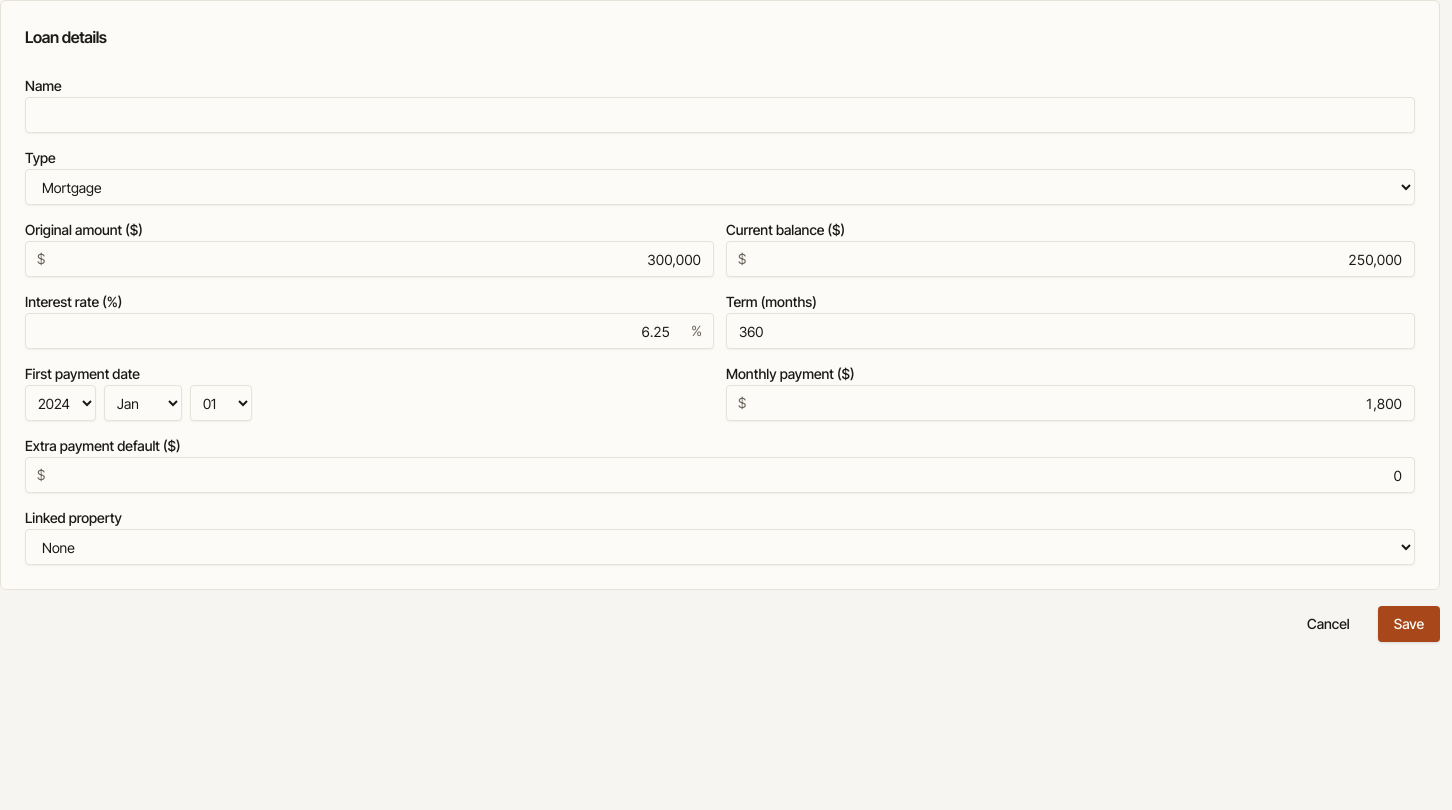
LoanForm — inline per-field errors (round-3 S6) › the error summary names the rate/term fields by their visible labels
Replace the text in the number field labelled "Interest rate (%)" with "150" at (370, 331), box [25,313,714,349]
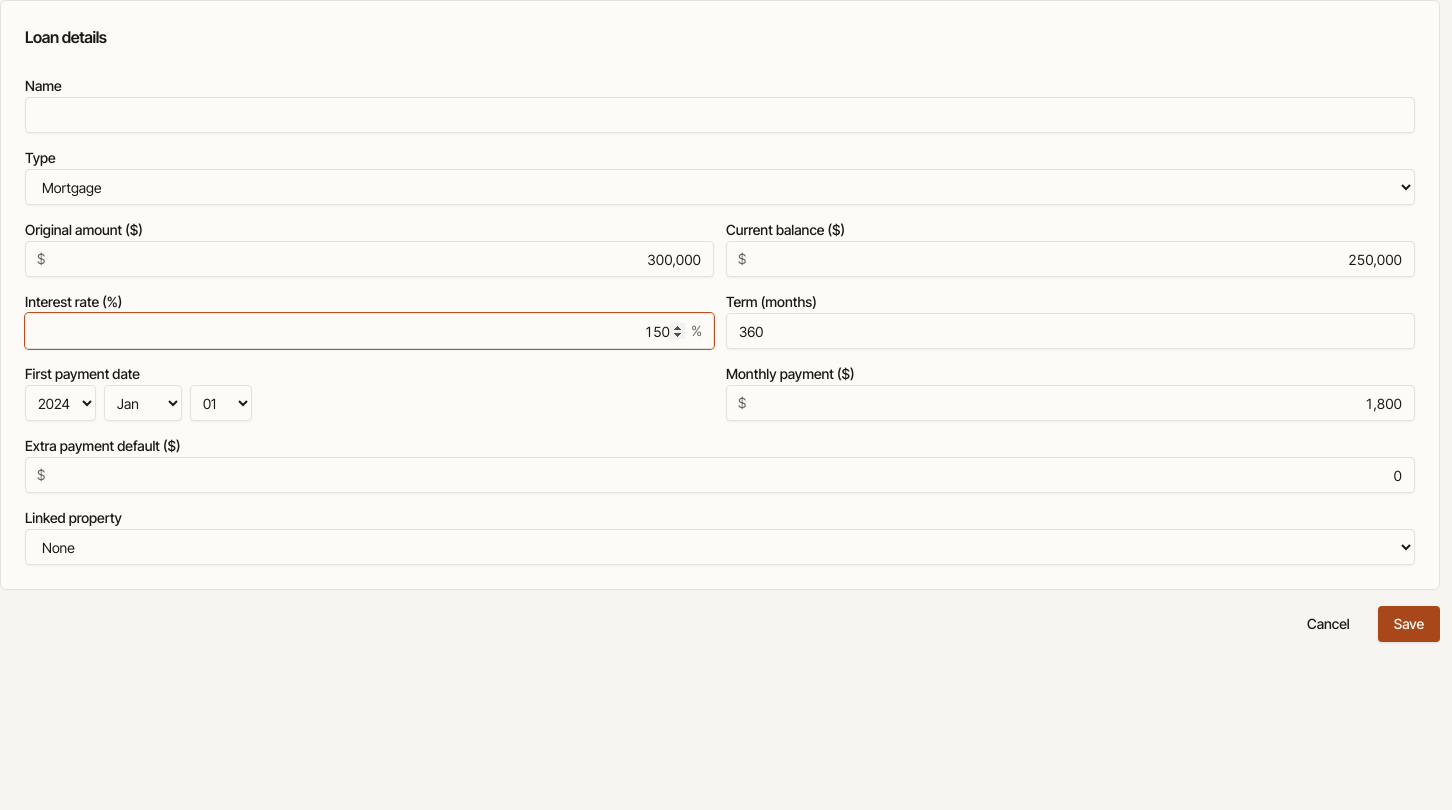
Click the button "Save".
click(1409, 624)  # box [1378,606,1440,642]
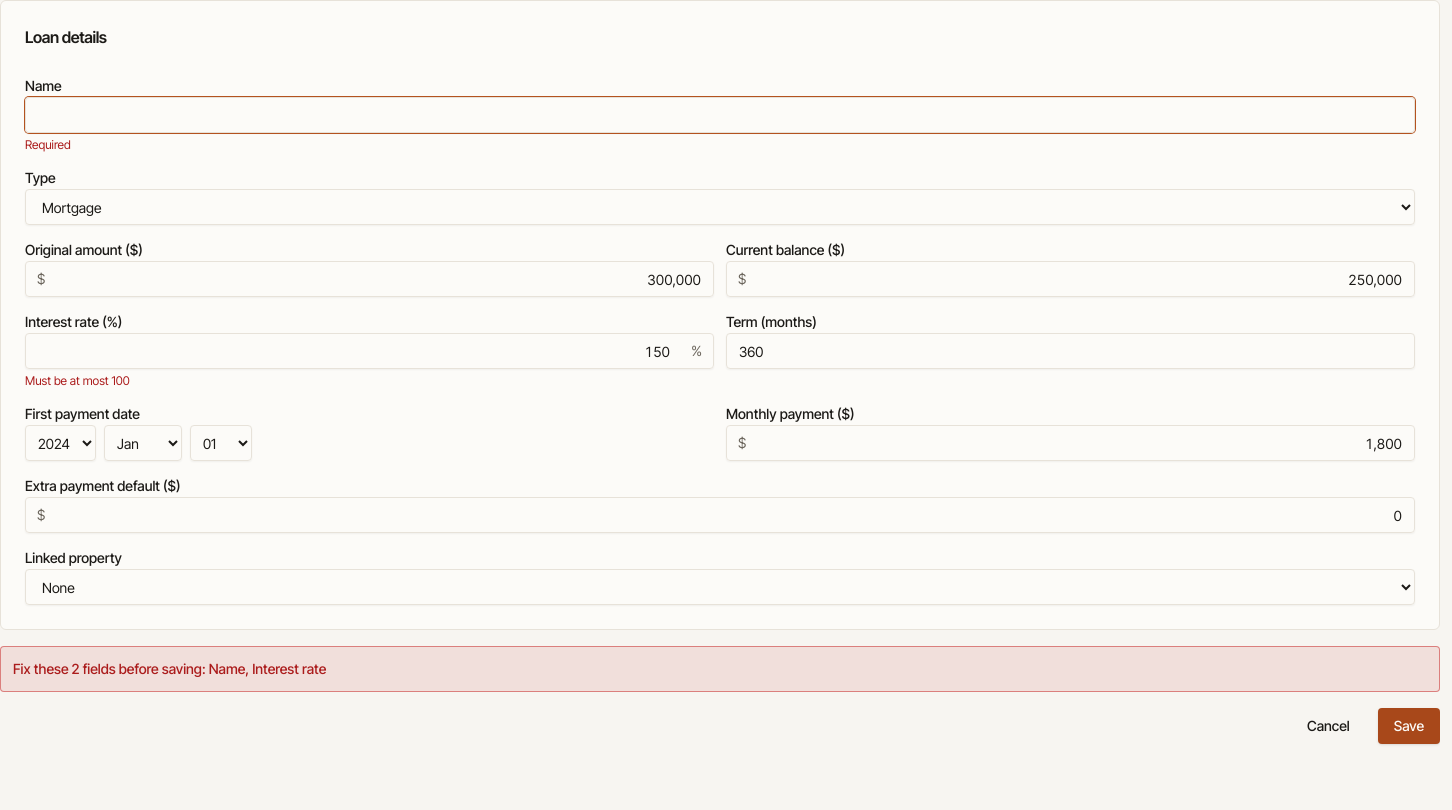
Expected: the message does not show "Interest rate percent", [0,646,1440,692]
Result: the message shows "Interest rate" at [209,660,326,677]
